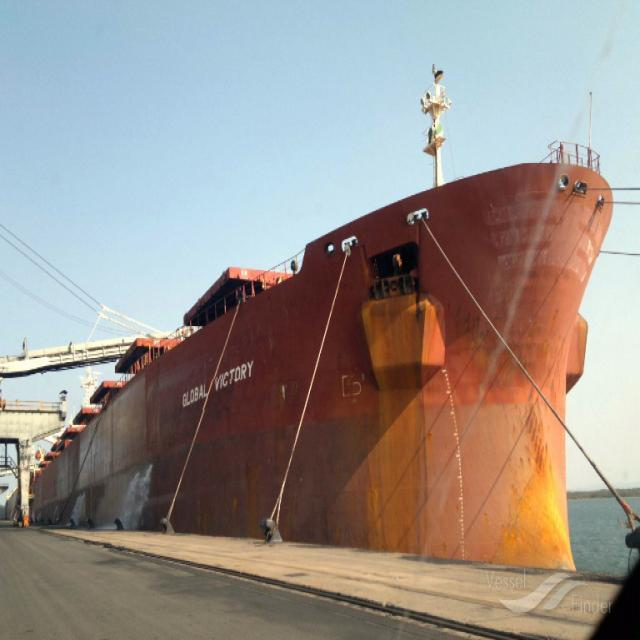OCR: (175, 357, 261, 410)
